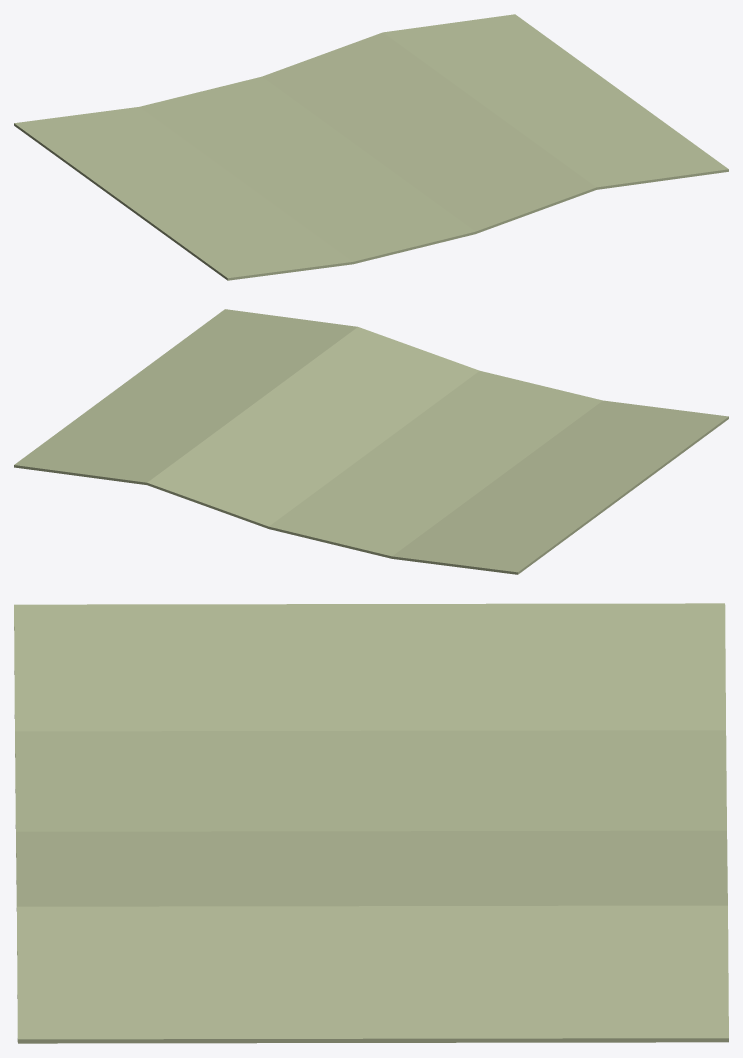
The model's file is Childrens_Room_Paper.fbx.
3 renders of one model, top to bottom at view 1: azimuth 30°, elevation 25°; view 2: azimuth 150°, elevation 25°; view 3: azimuth 270°, elevation 25°, orthographic. The views are drawn at different scales.
Parts seen in each view (by area): view 1: Childrens_Room_Paper; view 2: Childrens_Room_Paper; view 3: Childrens_Room_Paper.
Boxes of the visible parts, x1,y1,x2,y2 form: Childrens_Room_Paper: (14,14,728,280); Childrens_Room_Paper: (14,309,728,574); Childrens_Room_Paper: (14,603,728,1043).
Bounding box in the file's own units: 50.33 × 1.62 × 36.93.
